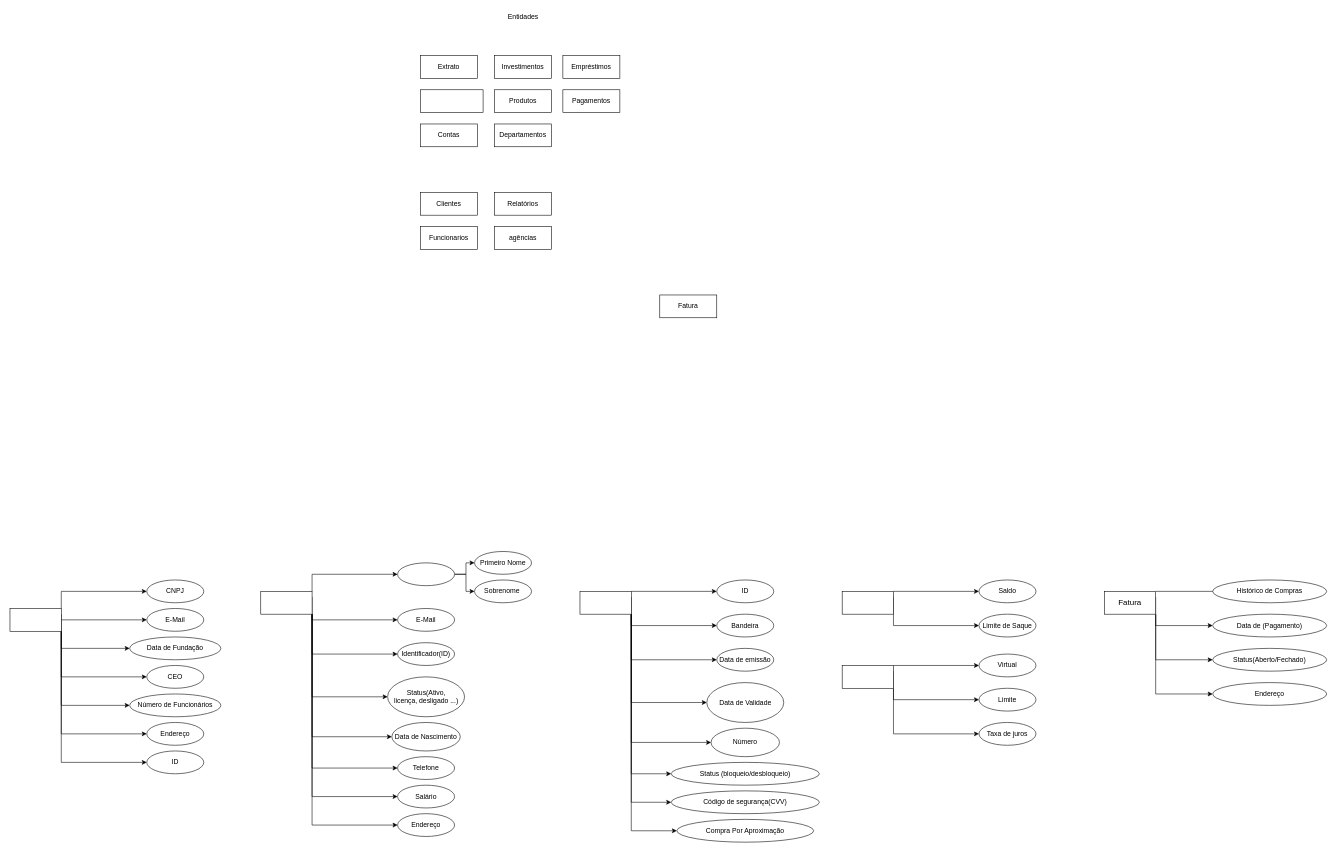
Some shapes in this 1337 by 852 pixel diagram are drawn without their labels. Each missing label, with the centre of its shape:
"Banco" goes at [35,619].
"Cartões" goes at [605,602].
"Crédito" goes at [867,676].
"Débito" goes at [867,602].
"Gerente" goes at [286,602].
"Nome" goes at [426,574].
"transação" goes at [451,101].
